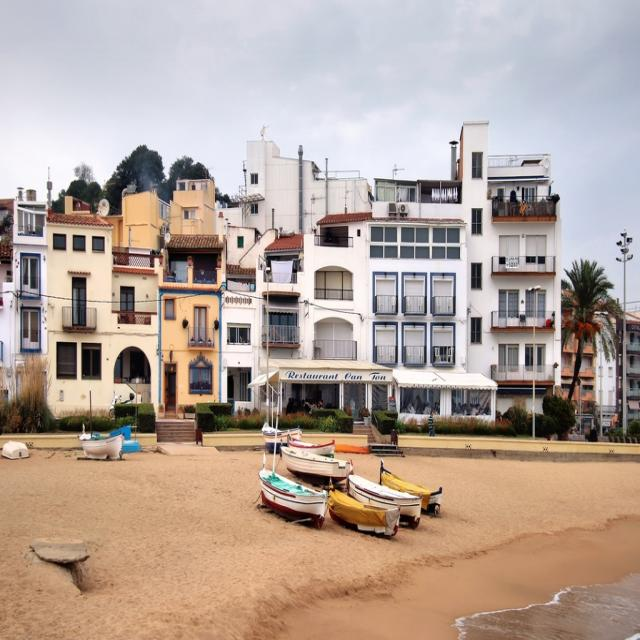Boat: (254, 427, 374, 532), (258, 282, 303, 452), (348, 465, 426, 531), (325, 478, 401, 538), (372, 457, 441, 514), (280, 444, 354, 482), (285, 429, 337, 456), (264, 417, 302, 453), (90, 433, 142, 457), (84, 434, 122, 466), (2, 439, 30, 463)
